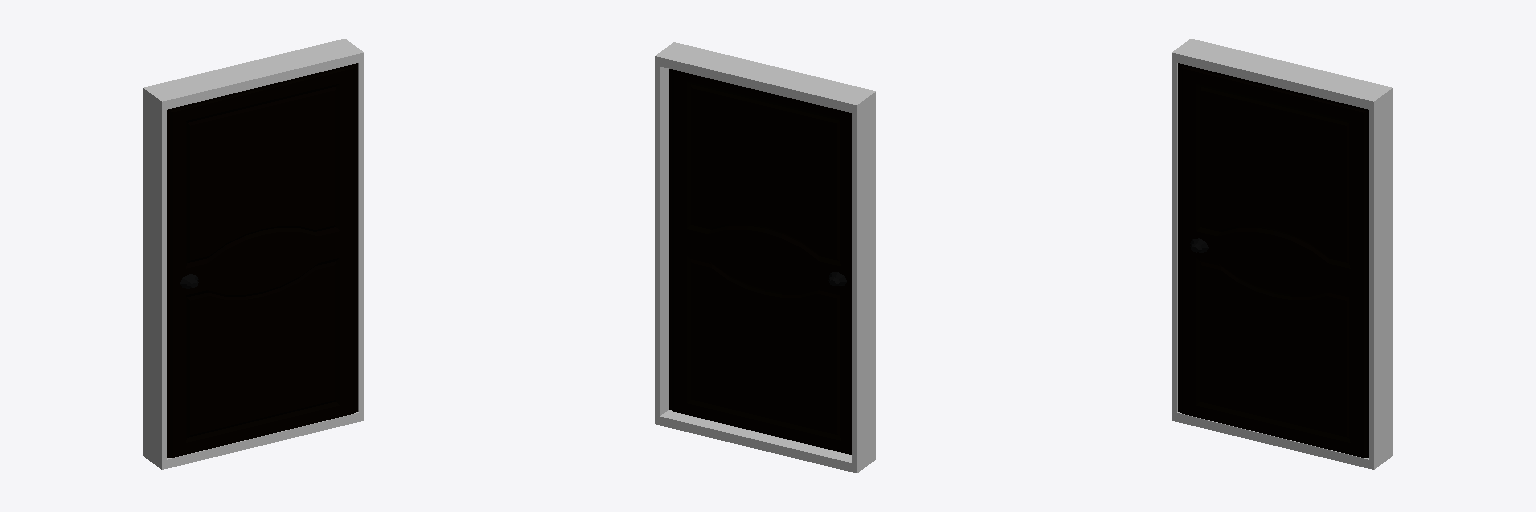
File: drzwi.obj
3 views of the same model, side by side, from view 1: azimuth 30°, elevation 25°; view 2: azimuth 150°, elevation 25°; view 3: azimuth 330°, elevation 25° (orthographic).
Parts seen in each view (by area): view 1: Door_4_Cube.048, Kostka; view 2: Door_4_Cube.048, Kostka; view 3: Door_4_Cube.048, Kostka.
Part boxes in pixels (x1,y1,x2,y2): Door_4_Cube.048: (167,63,357,457); Kostka: (143,39,363,469); Door_4_Cube.048: (669,69,851,454); Kostka: (655,42,875,472); Door_4_Cube.048: (1178,63,1368,457); Kostka: (1172,39,1392,469).
Bounding box in the file's own units: 0.7416 × 1.29 × 0.1532.